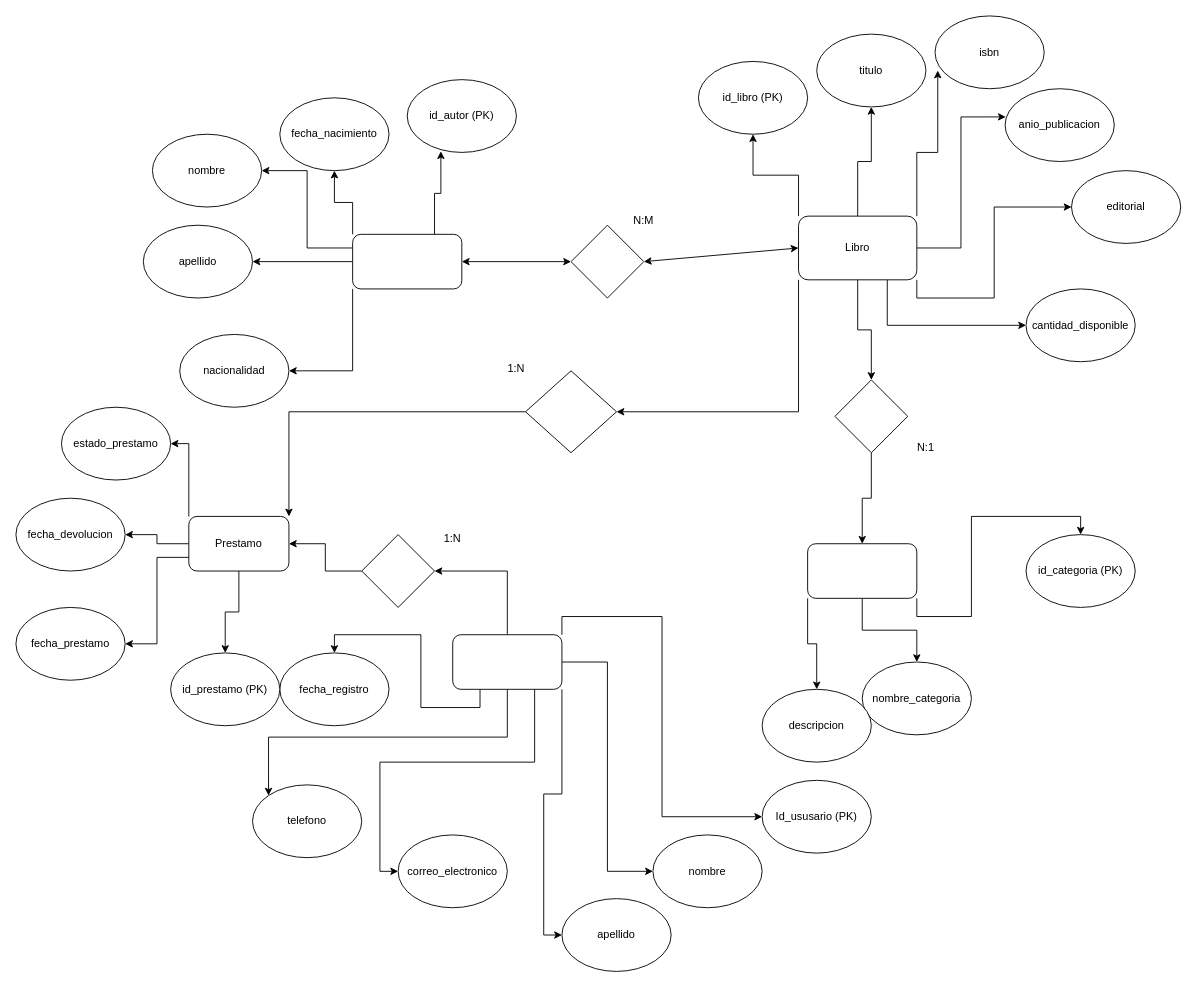
Some shapes in this 1197 by 987 pixel diagram are drawn without their labels. Here are the shapes that lost their labels. From the top down, the box of each, then its label:
(352, 233, 462, 289): Autor
(570, 224, 644, 298): Escribe
(525, 370, 617, 453): se_registra_en
(834, 379, 908, 453): Pertenece
(361, 534, 435, 607): Realiza
(807, 543, 917, 598): Categoria
(452, 634, 562, 689): Usuario
